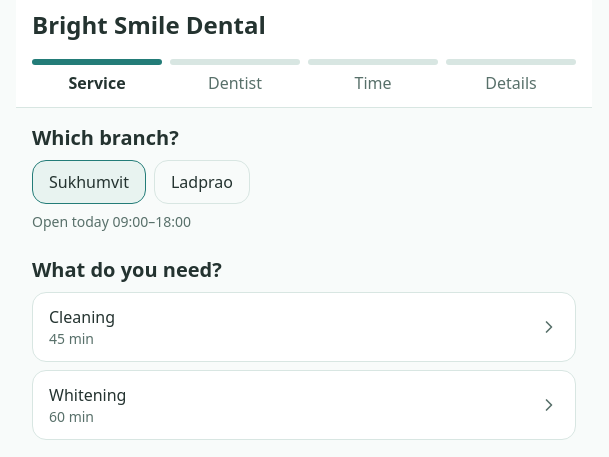
Test: BookingPage › grounds a multi-branch choice in the selected location's hours
Expected: the text "Open today 09:00–18:00" is shown, left=32, top=212, right=191, bottom=231
Click the button "Ladprao" at [202, 182], box left=154, top=160, right=250, bottom=204
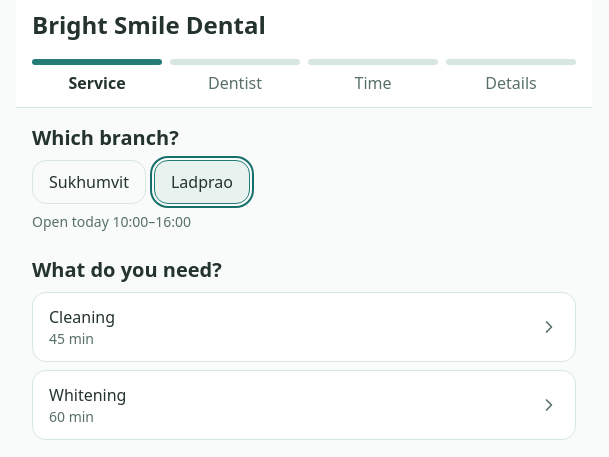
Result: the text "Open today 10:00–16:00" is shown at left=32, top=212, right=191, bottom=231
